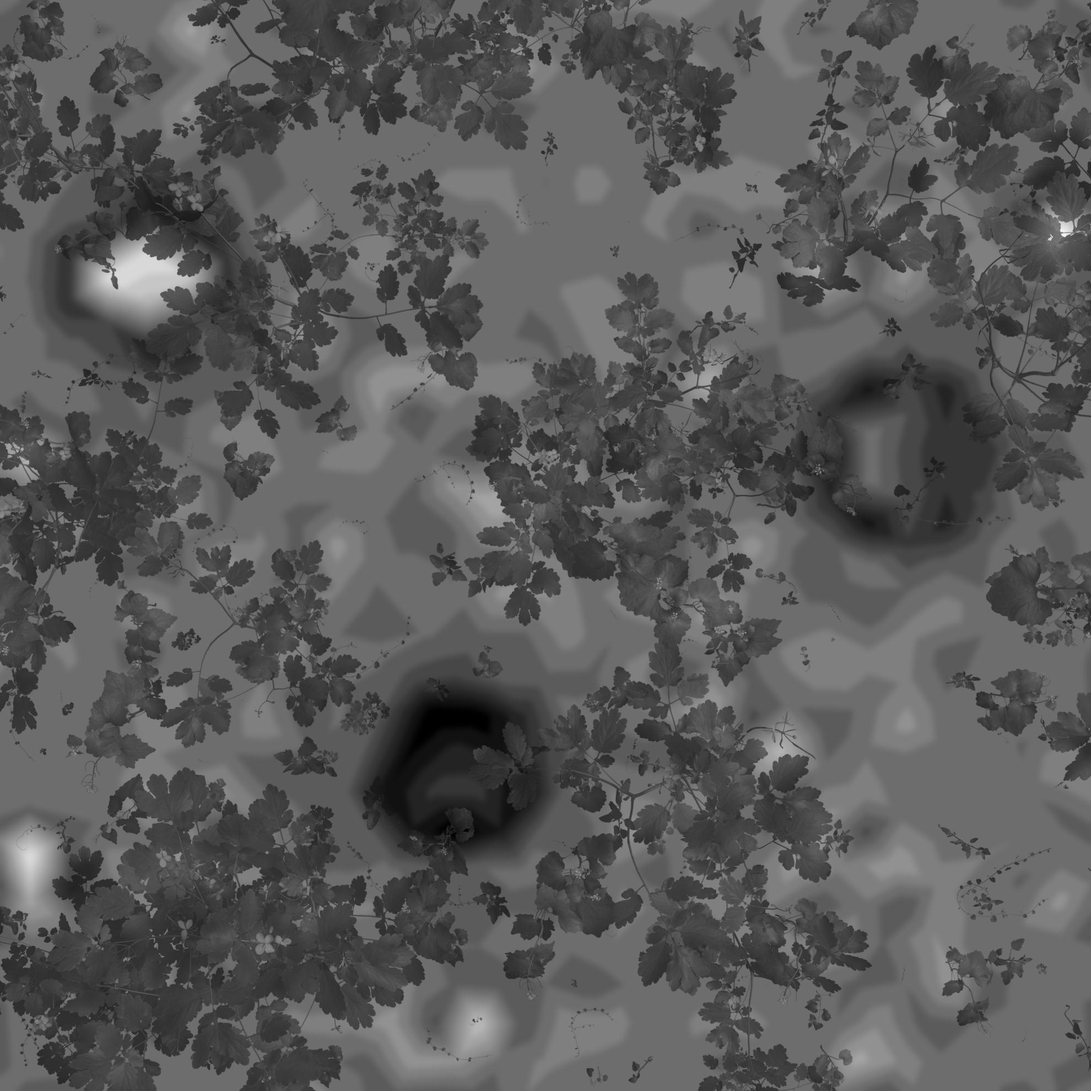landmine: (369, 688, 555, 857), (816, 369, 981, 544), (60, 198, 223, 354)
